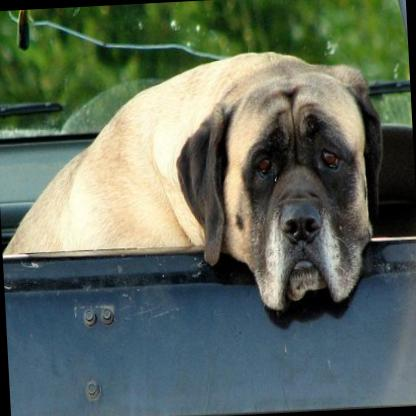bull_mastiff: (0, 45, 389, 332)
